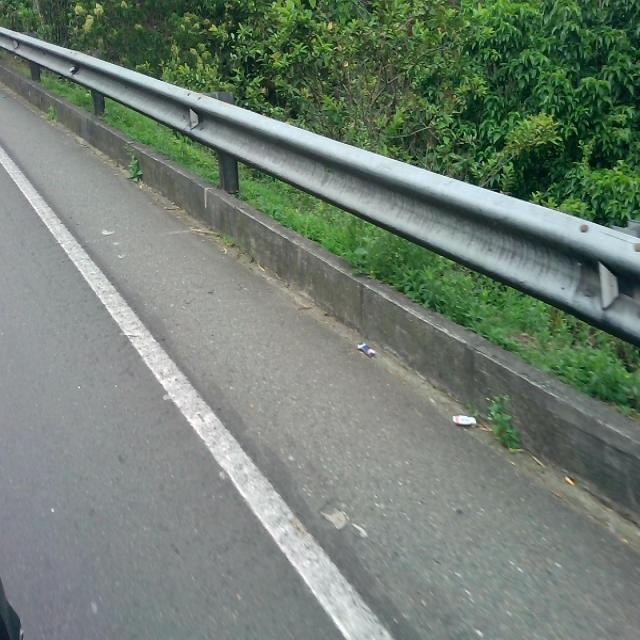DITCH: (1, 67, 639, 638), (1, 77, 638, 638), (1, 86, 638, 637)
